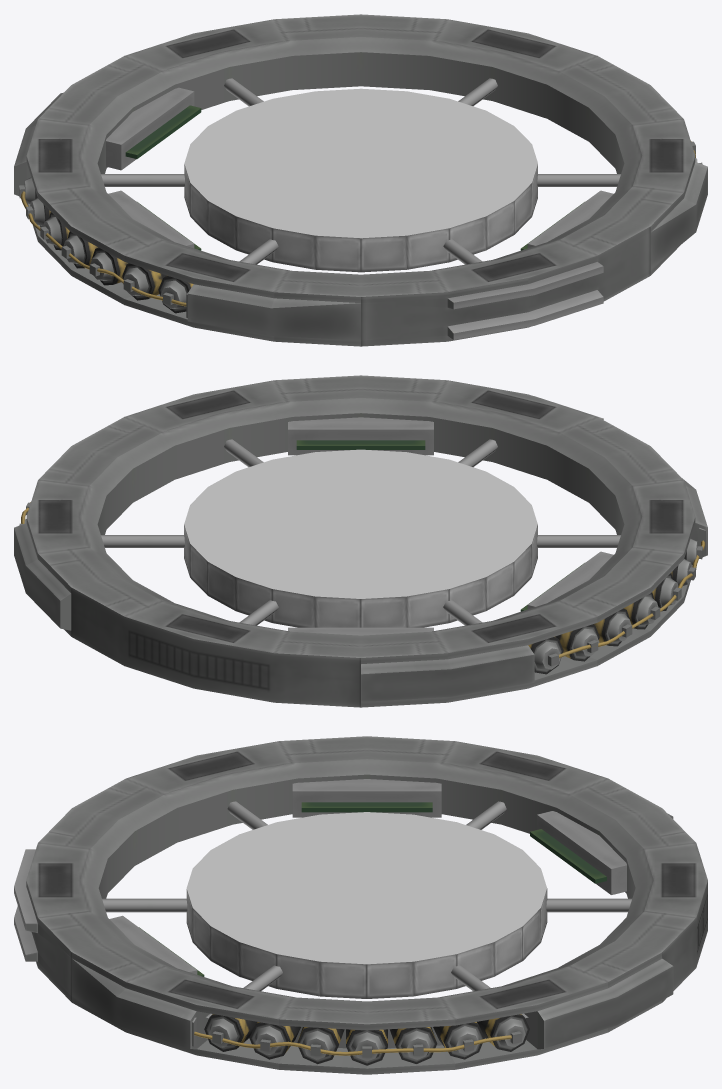
File: MOL_ControlSegment.dae
3 renders of one model, top to bottom at view 1: azimuth 30°, elevation 25°; view 2: azimuth 150°, elevation 25°; view 3: azimuth 270°, elevation 25°, orthographic.
Parts seen in each view (by area): view 1: probe_core1877, polySurface66, polySurface65; view 2: probe_core1877, polySurface66, polySurface65; view 3: probe_core1877, polySurface66, polySurface65.
Part boxes in pixels (x1,y1,x2,y2): probe_core1877: (14, 14, 707, 346); polySurface66: (184, 88, 537, 238); polySurface65: (184, 164, 537, 272); probe_core1877: (14, 375, 707, 707); polySurface66: (184, 449, 537, 598); polySurface65: (184, 525, 537, 627); probe_core1877: (14, 736, 707, 1074); polySurface66: (186, 812, 546, 964); polySurface65: (186, 888, 547, 998).
Bounding box in the file's own units: 1.92 × 0.153 × 1.91.
